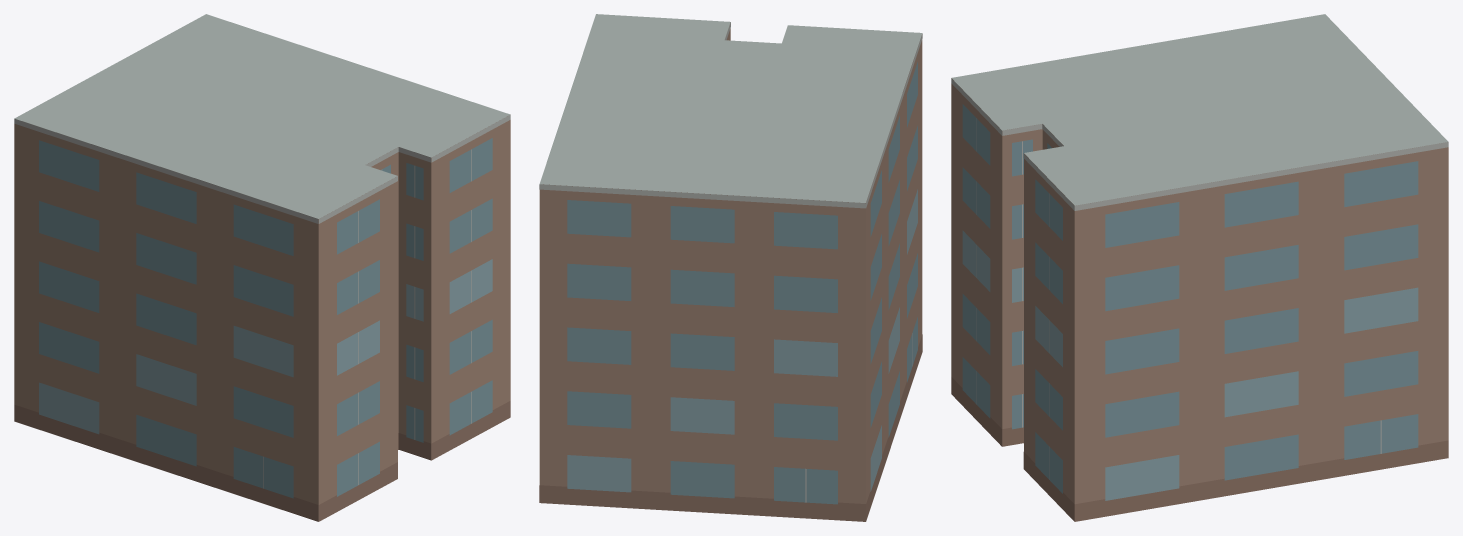
File: survey-upis-32757830.glb
3 views of the same model, side by side, from view 1: azimuth 30°, elevation 25°; view 2: azimuth 150°, elevation 25°; view 3: azimuth 270°, elevation 25° (orthographic). The views are drawn at different scales.
Visible parts, largest first — view 1: survey-upis-32757830.tmp; view 2: survey-upis-32757830.tmp; view 3: survey-upis-32757830.tmp.
Boxes of the visible parts, <box> form: survey-upis-32757830.tmp: <box>14,14,510,521</box>; survey-upis-32757830.tmp: <box>539,14,922,521</box>; survey-upis-32757830.tmp: <box>951,14,1448,521</box>.
Size of the model in its own units: 18.87 by 14.5 by 20.68.
